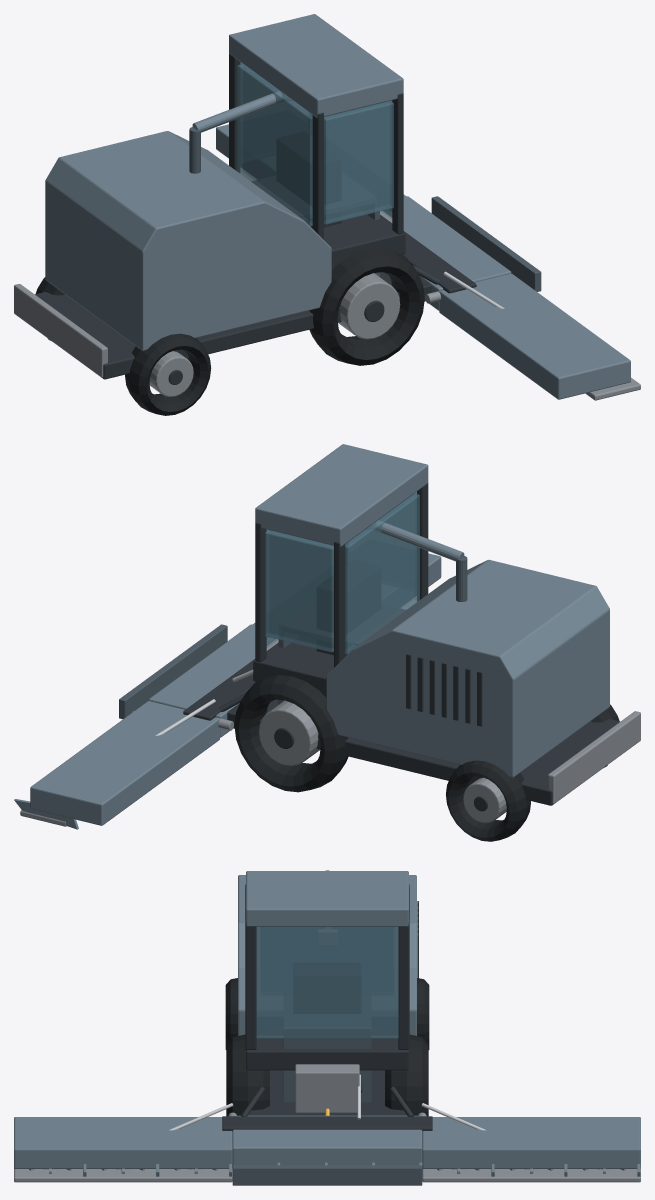
The model's file is claas-jaguar-990-structural-study.glb.
The picture shows the model from 3 angles, top to bottom: view 1: azimuth 30°, elevation 25°; view 2: azimuth 150°, elevation 25°; view 3: azimuth 270°, elevation 25°; orthographic projection. The views are drawn at different scales.
Visible parts, largest first — view 1: Power_Module_Tapered_Shell, ORBIS_R_Wing_Frame, Cab_Roof, Cab_Rear_Glass, Cab_R_Glass, Front_R_Tire, Carrier_Frame, Rear_R_Tire, ORBIS_Center_Frame, Rear_Terminal_Bumper, Operator_Seat, Cab_Floor (+10 smaller); view 2: Power_Module_Tapered_Shell, ORBIS_L_Wing_Frame, Cab_Roof, Cab_Rear_Glass, Cab_L_Glass, Front_L_Tire, Carrier_Frame, Rear_L_Tire, ORBIS_Center_Frame, Rear_Terminal_Bumper, Operator_Seat, Cab_Floor (+10 smaller); view 3: Cab_Front_Glass, ORBIS_L_Wing_Frame, ORBIS_R_Wing_Frame, Cab_Roof, ORBIS_Center_Frame, Cab_Floor, Power_Module_Tapered_Shell, ORBIS_Front_Guard, Operator_Seat, Feedroll_730mm_Carrier, ORBIS_Transport_Protection_Frame, ORBIS_L_Wing_Cutterbar (+10 smaller).
Boxes of the visible parts, box(x1,y1,x2,y2) form: Power_Module_Tapered_Shell: box(45, 131, 331, 350); ORBIS_R_Wing_Frame: box(439, 273, 630, 399); Cab_Roof: box(229, 14, 403, 117); Cab_Rear_Glass: box(237, 64, 312, 226); Cab_R_Glass: box(324, 101, 393, 224); Front_R_Tire: box(309, 247, 424, 365); Carrier_Frame: box(35, 272, 431, 379); Rear_R_Tire: box(125, 333, 211, 415); ORBIS_Center_Frame: box(380, 196, 511, 310); Rear_Terminal_Bumper: box(14, 284, 107, 377); Operator_Seat: box(277, 132, 341, 228); Cab_Floor: box(324, 208, 405, 270); Power_Module_Tapered_Shell: box(326, 559, 609, 777); ORBIS_L_Wing_Frame: box(30, 701, 219, 825); Cab_Roof: box(255, 444, 428, 546); Cab_Rear_Glass: box(345, 493, 419, 654); Cab_L_Glass: box(265, 530, 333, 652); Front_L_Tire: box(234, 675, 348, 792); Carrier_Frame: box(227, 699, 619, 805); Rear_L_Tire: box(446, 760, 530, 841); ORBIS_Center_Frame: box(148, 624, 277, 737); Rear_Terminal_Bumper: box(548, 711, 640, 803); Operator_Seat: box(316, 561, 380, 656); Cab_Floor: box(253, 636, 333, 697); Cab_Front_Glass: box(256, 926, 398, 1038); ORBIS_L_Wing_Frame: box(422, 1117, 640, 1168); ORBIS_R_Wing_Frame: box(14, 1117, 232, 1168); Cab_Roof: box(246, 871, 408, 926); ORBIS_Center_Frame: box(232, 1115, 422, 1165); Cab_Floor: box(246, 1017, 408, 1070); Power_Module_Tapered_Shell: box(238, 875, 416, 1035); ORBIS_Front_Guard: box(232, 1165, 422, 1185); Operator_Seat: box(294, 963, 360, 1013); Feedroll_730mm_Carrier: box(295, 1064, 359, 1112); ORBIS_Transport_Protection_Frame: box(222, 1116, 432, 1131); ORBIS_L_Wing_Cutterbar: box(422, 1168, 640, 1182).
Size of the model in its own units: 6.49 by 3.95 by 8.93.
